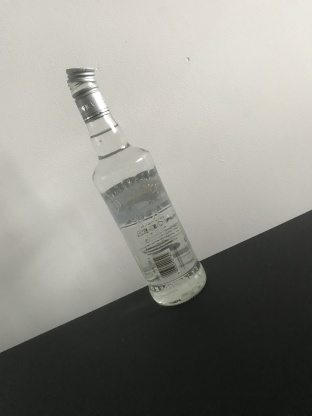nakretka: (64, 65, 111, 124)
